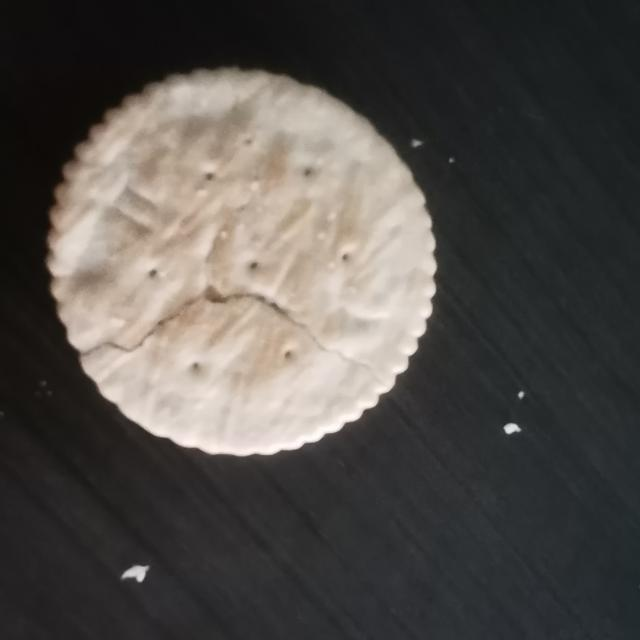Fracture: (70, 274, 401, 406)
